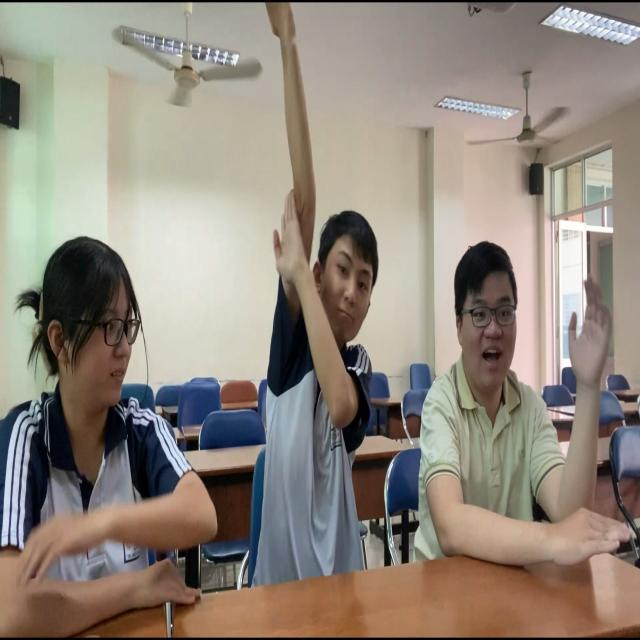raise_hand: (415, 238, 629, 583), (261, 1, 387, 579)
